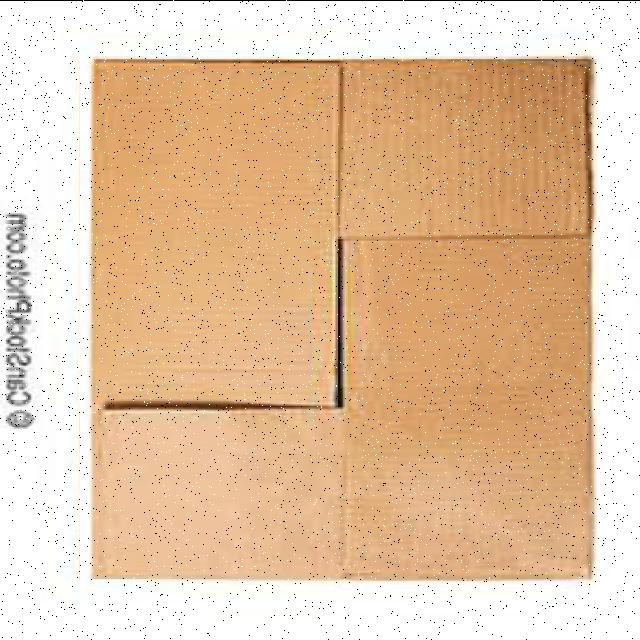normal: (80, 49, 597, 588)
